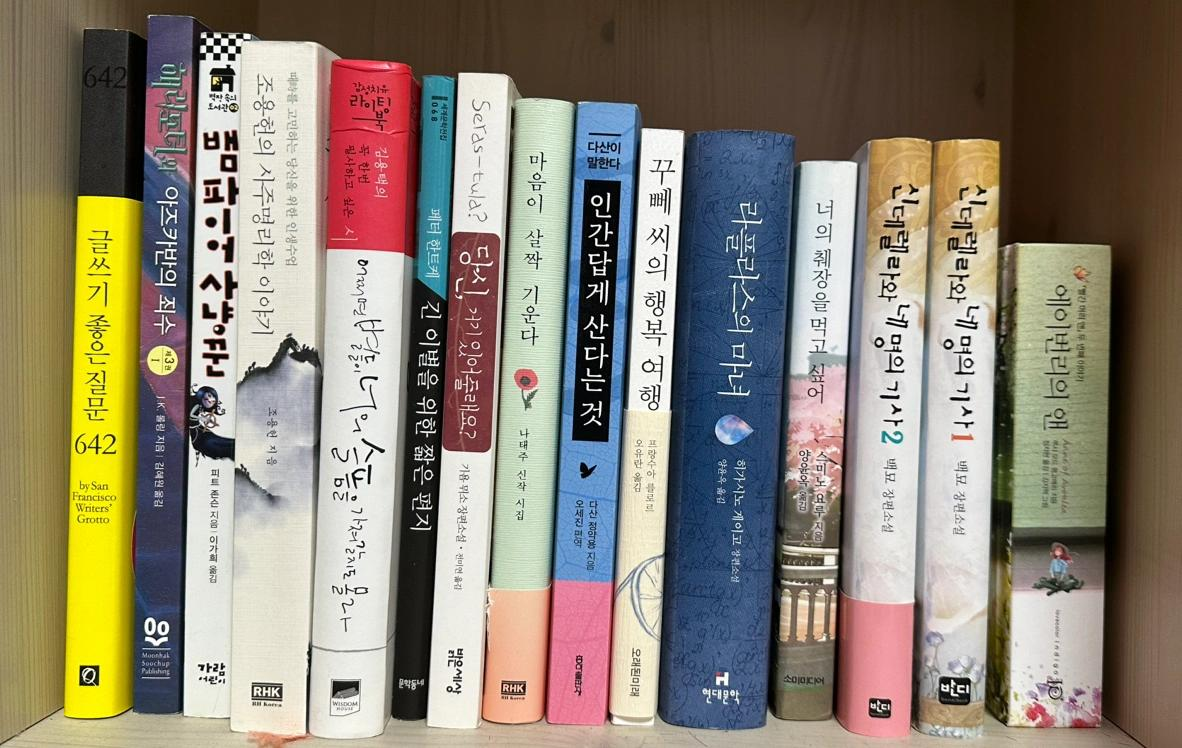book: (658, 128, 795, 730), (229, 38, 341, 737), (308, 58, 419, 739), (426, 71, 522, 729), (986, 241, 1111, 728), (546, 100, 642, 725), (481, 97, 576, 724), (835, 136, 931, 738), (64, 27, 146, 719), (132, 13, 210, 714), (182, 29, 258, 719), (913, 137, 1000, 738), (770, 158, 857, 721), (608, 127, 685, 726), (391, 74, 455, 721)
